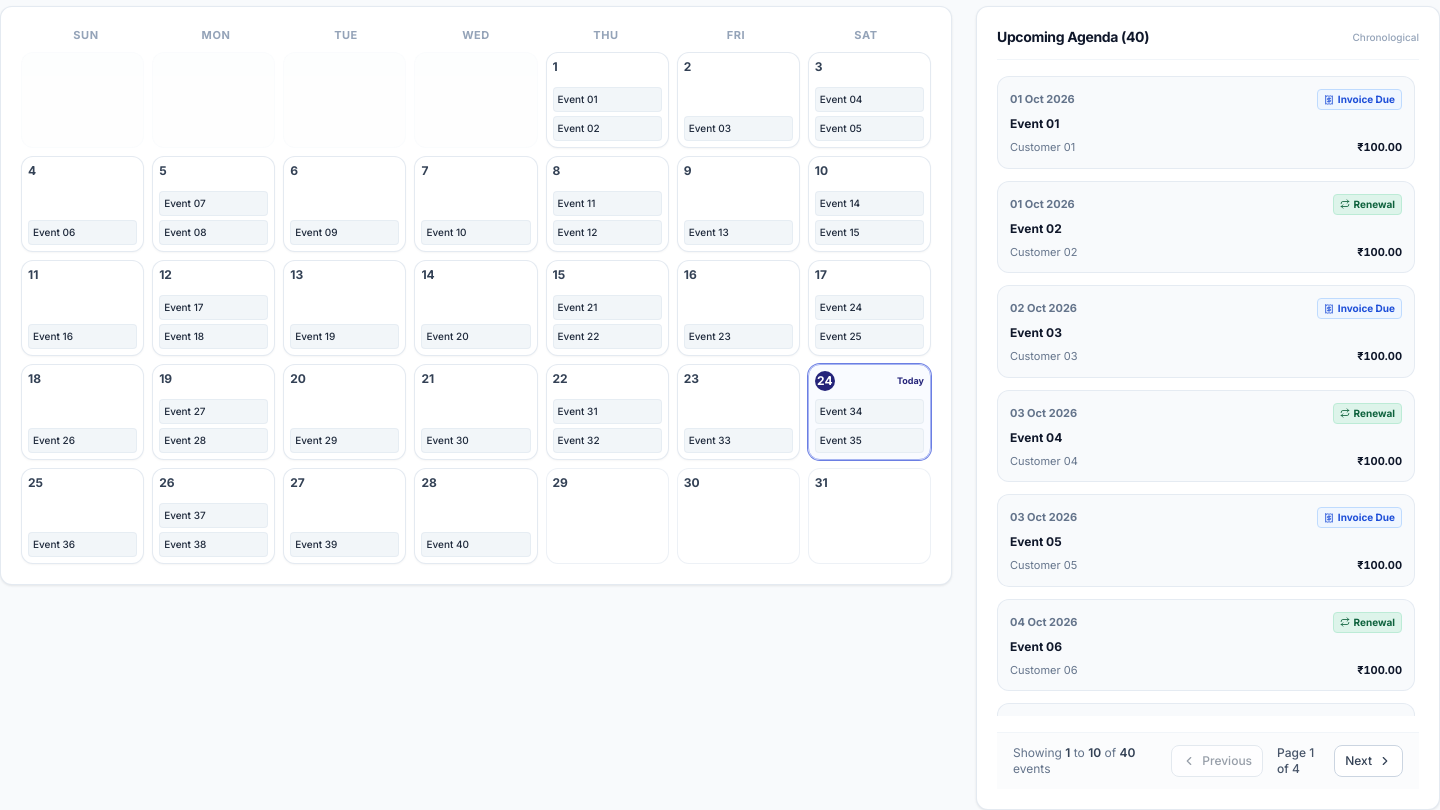
Test case: BillingCalendarPage agenda pagination › opens details for an event selected on page 2
This screenshot has width=1440, height=810.
(page scrolled)
Click the button "Next".
click(1369, 761)  # box [1334,745,1403,777]
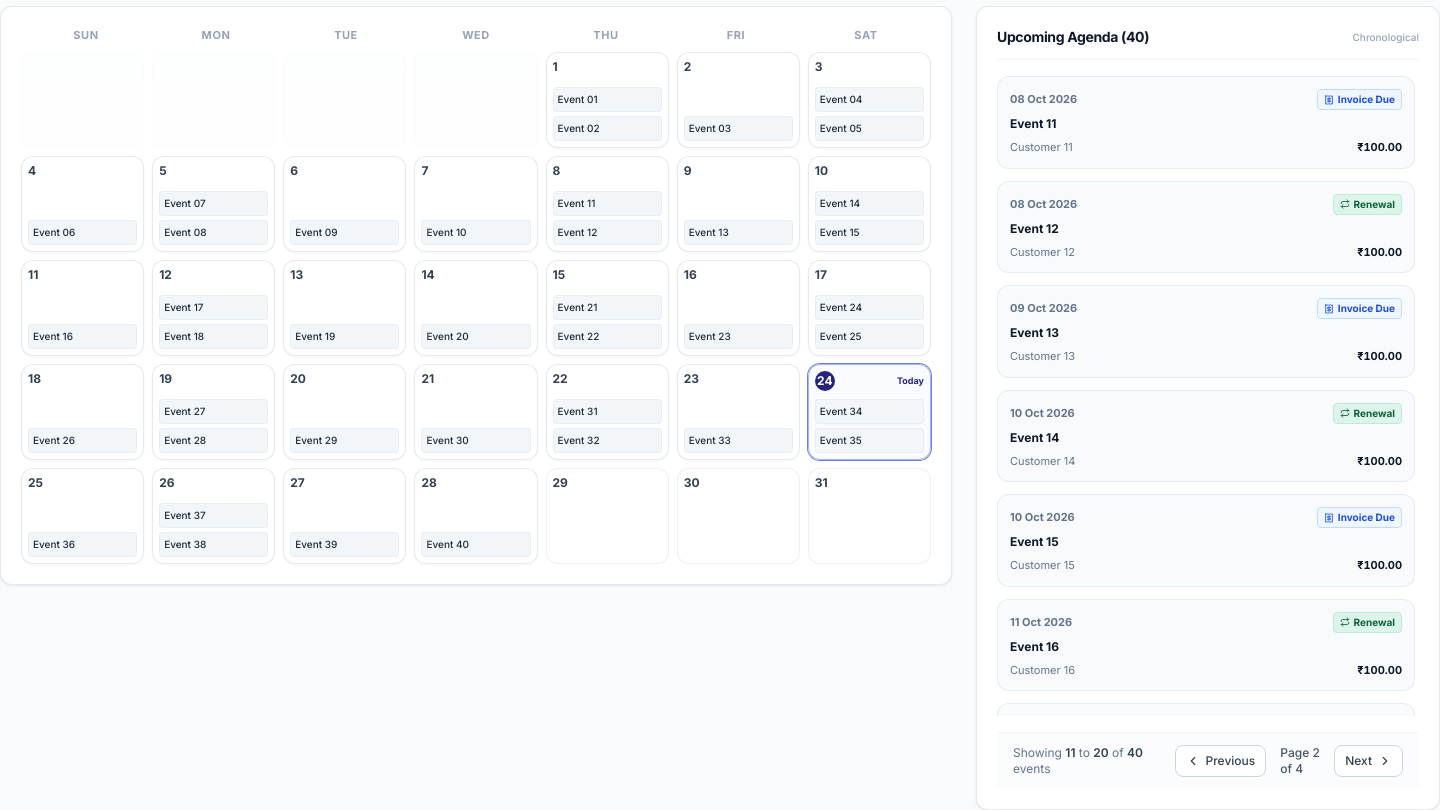
Click the heading "Event 12".
click(1034, 228)  # box [1010,220,1059,236]
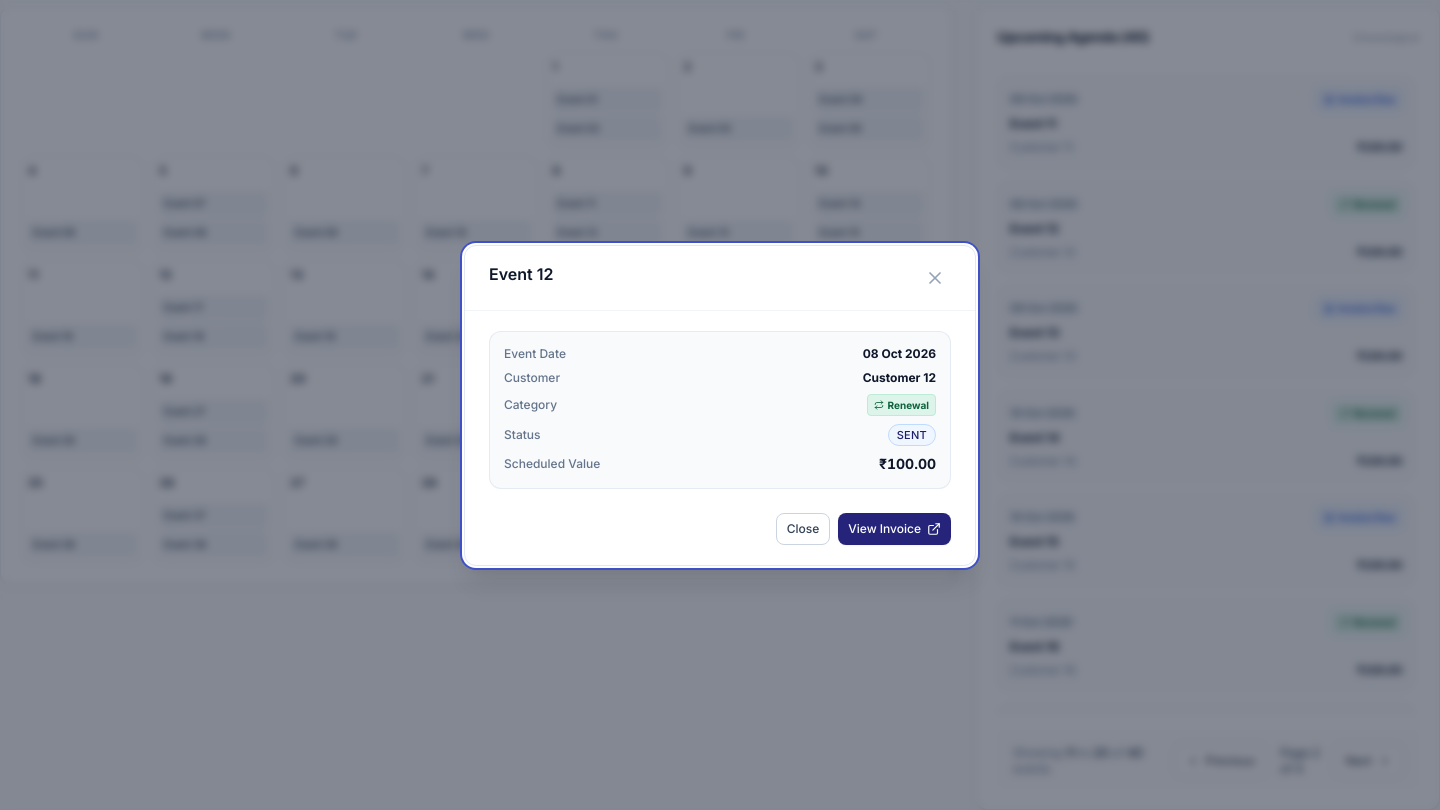
Check: the text "Event Date" is shown, box [504,346,566,362]
